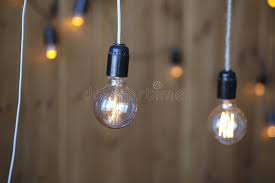bulb: (92, 70, 147, 131), (203, 91, 253, 149)
